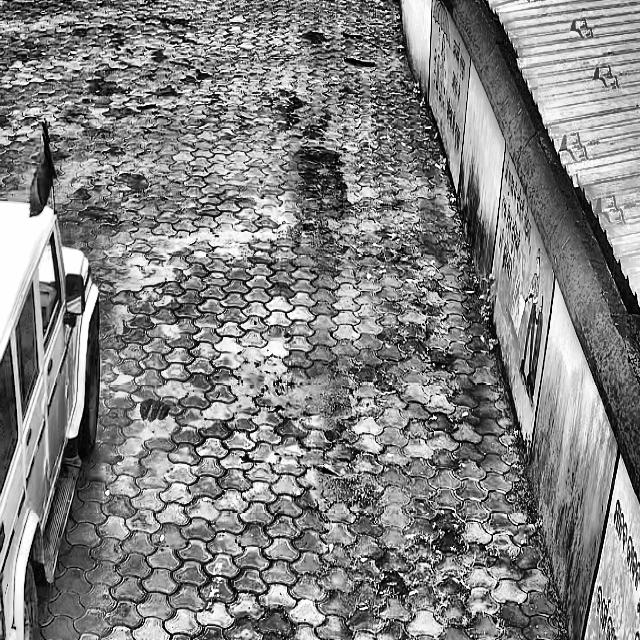light_vehicle: (0, 187, 102, 640)
